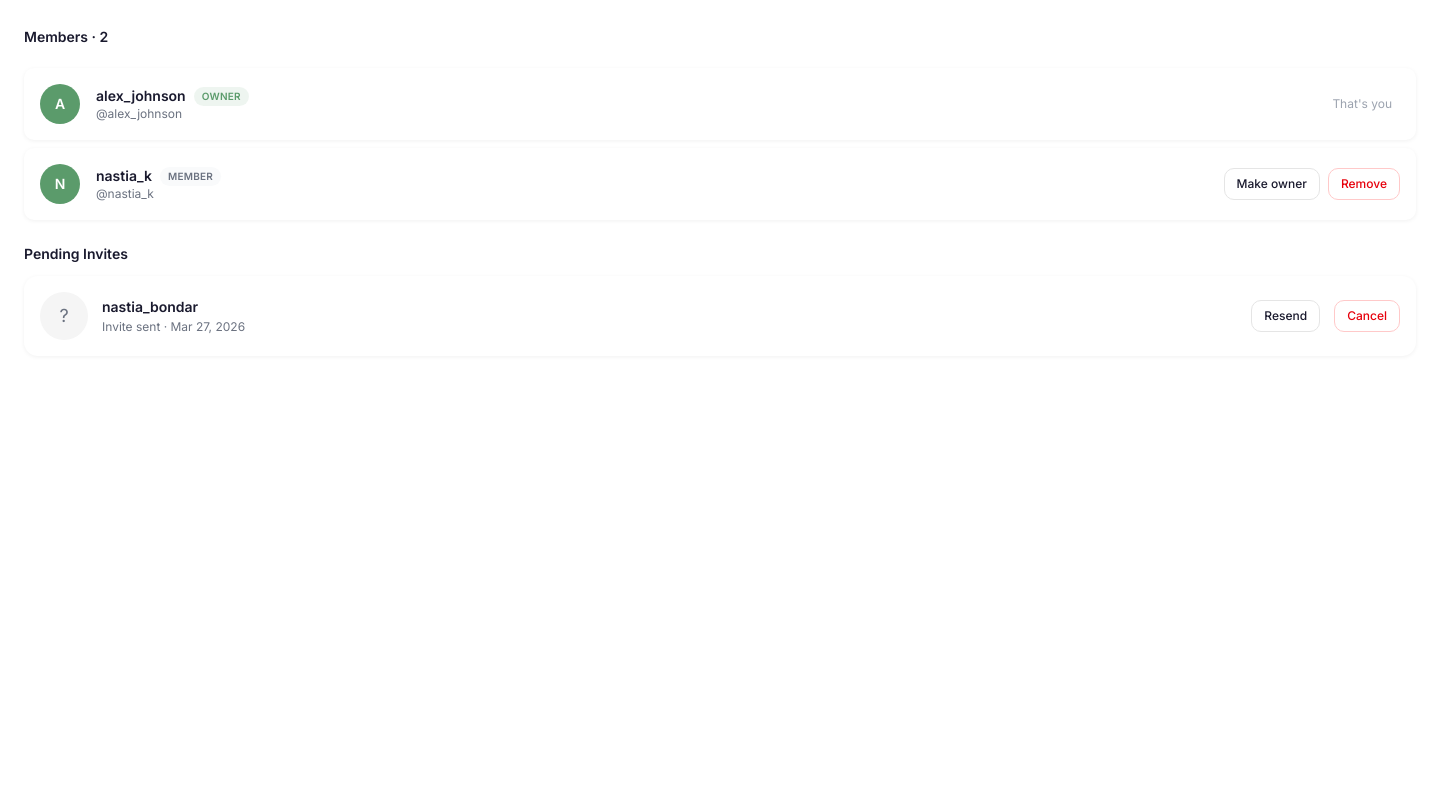
Test case: LobbyMemberList › opens a confirm dialog and removes the member when "Remove" is confirmed
Expected: the text "nastia_k" is shown, [96,166,152,186]
Click the button "Remove" at (1364, 184), box [1328,168,1400,200]
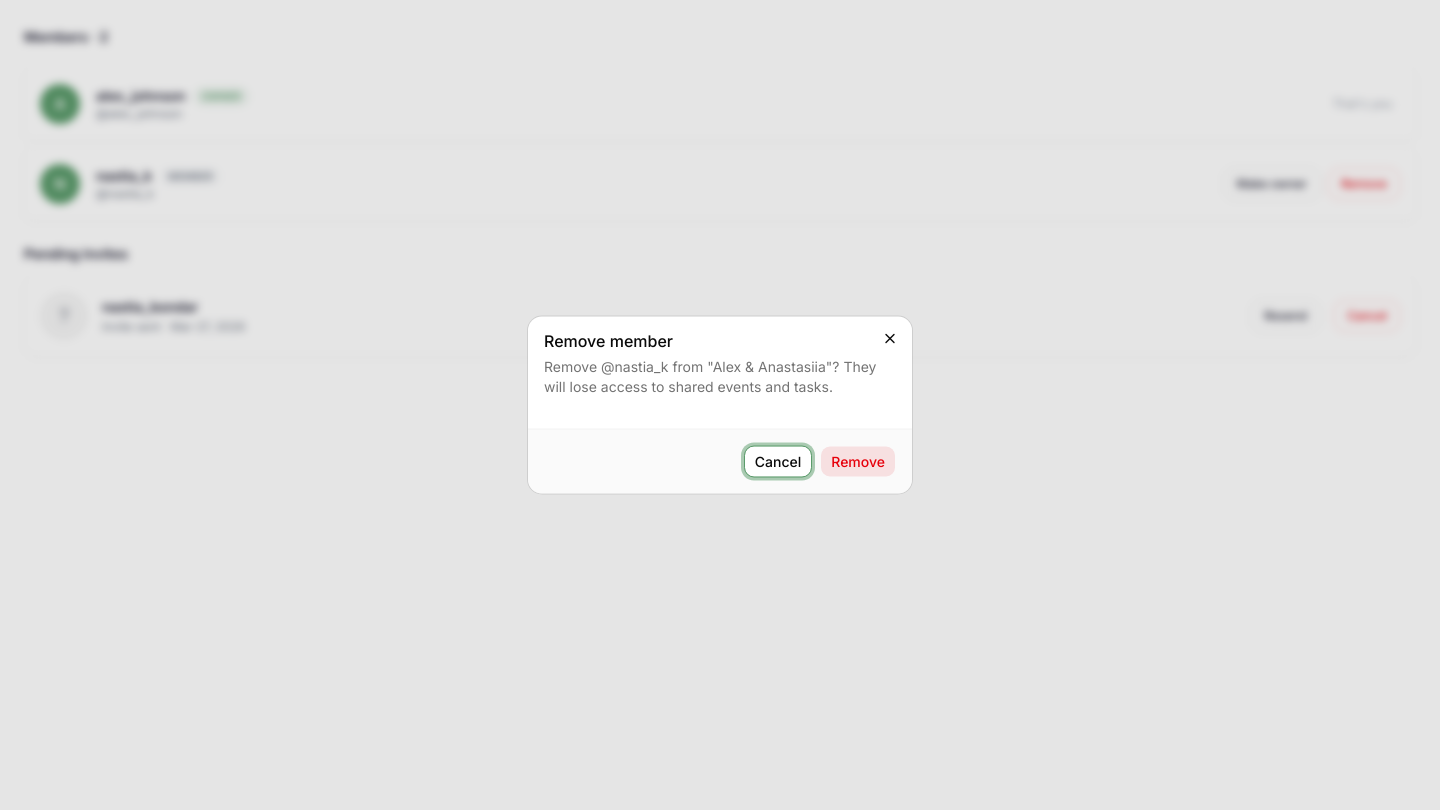
Click the button "Remove" at (858, 462), box [820,446,896,478]
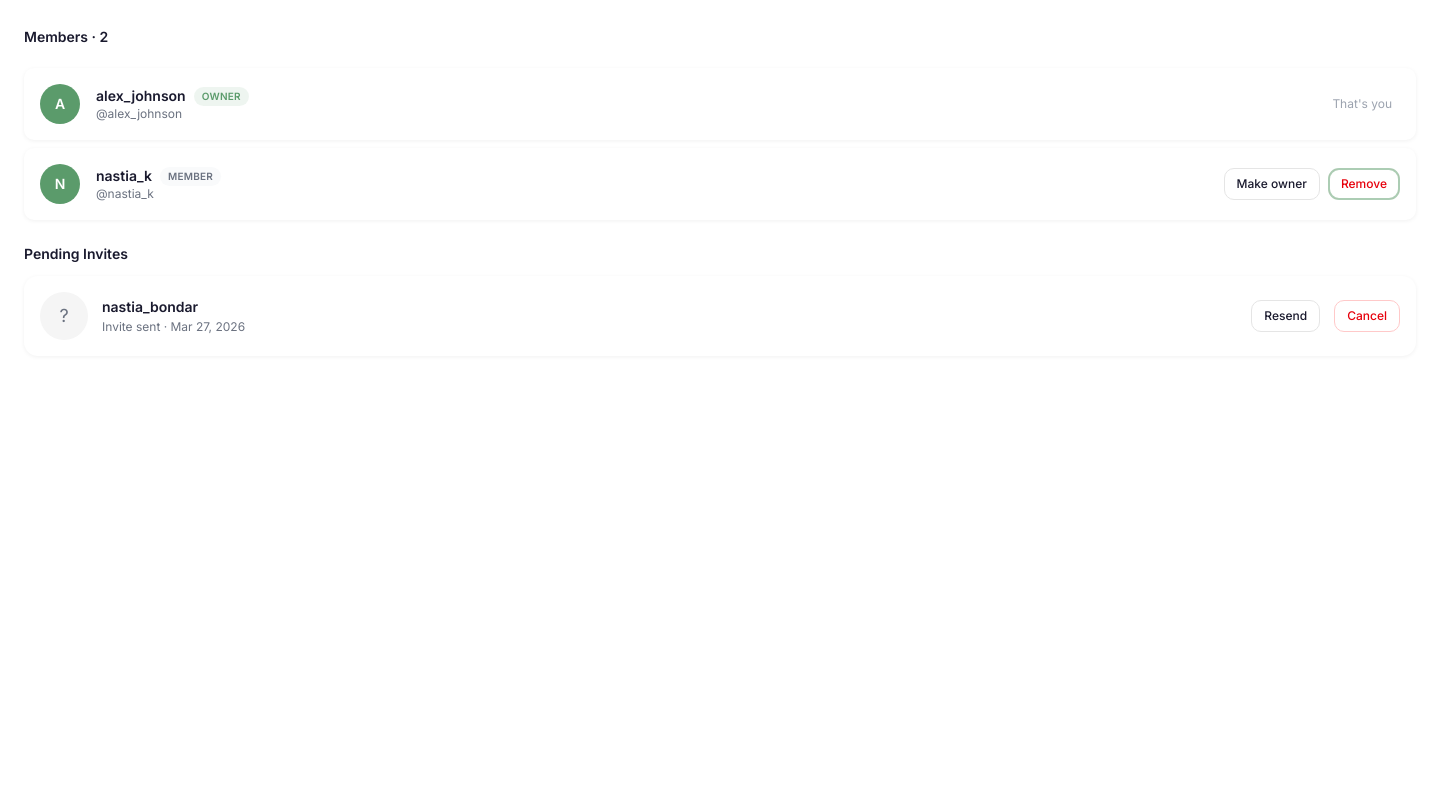
Expected: the heading "Remove member" is gone
